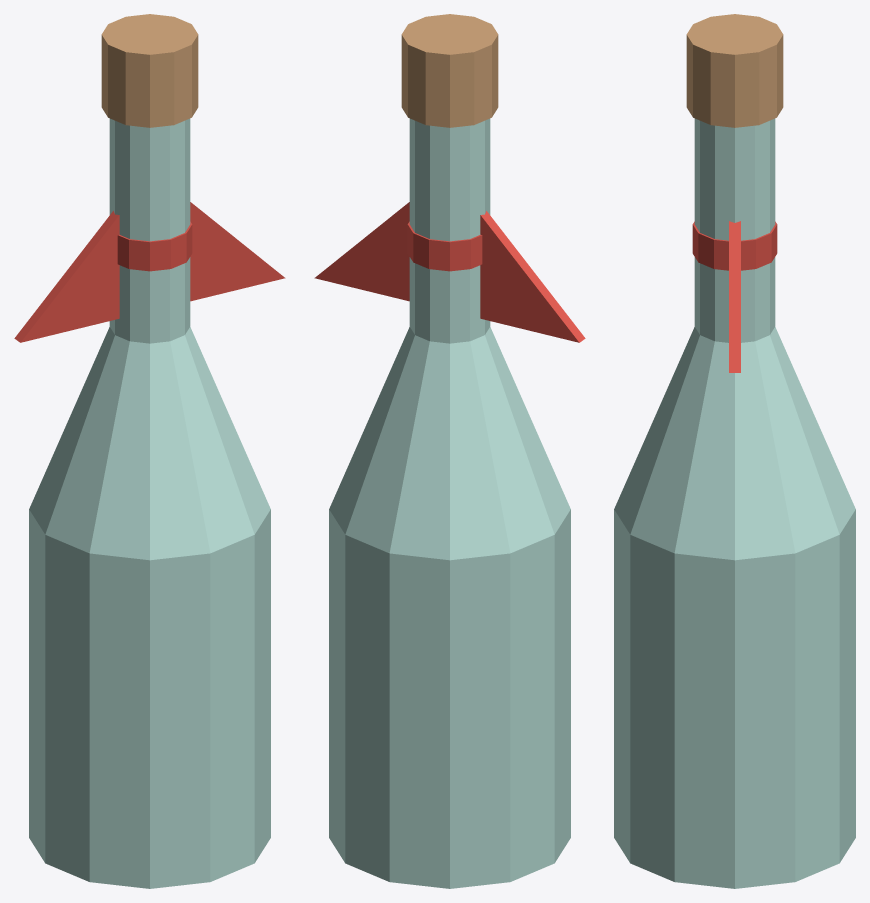
Rendered from bottle_skin_1.glb.
3 renders of one model, left to right at view 1: azimuth 30°, elevation 25°; view 2: azimuth 150°, elevation 25°; view 3: azimuth 270°, elevation 25°, orthographic.
Parts seen in each view (by area): view 1: bottle_skin_1; view 2: bottle_skin_1; view 3: bottle_skin_1.
Part boxes in pixels (x1,y1,x2,y2): bottle_skin_1: (14, 14, 285, 888); bottle_skin_1: (314, 14, 585, 888); bottle_skin_1: (614, 14, 855, 888).
Size of the model in its own units: 0.6909 by 2 by 0.5455.
